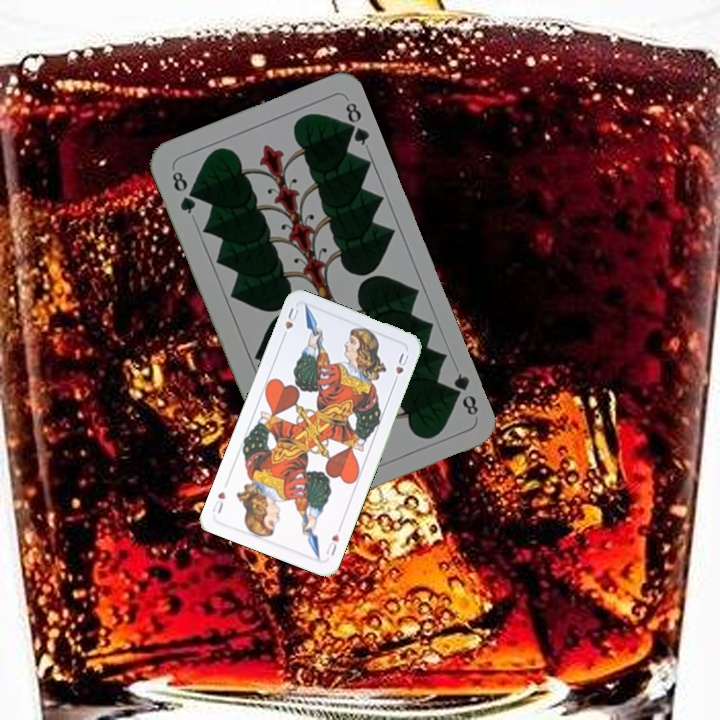G8: (445, 369, 481, 418), (167, 164, 199, 217)
HU: (278, 303, 302, 342), (322, 529, 342, 558)
